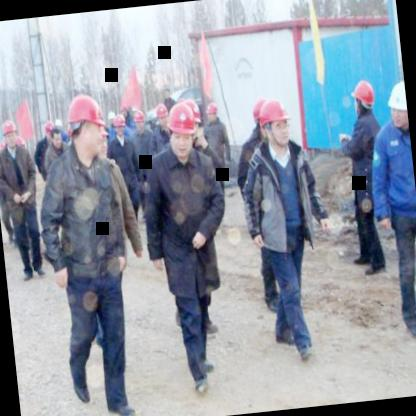helmet: (60, 88, 110, 163), (164, 98, 202, 157), (251, 95, 292, 148), (384, 79, 408, 131), (350, 77, 378, 121), (0, 114, 19, 148), (154, 102, 170, 129), (112, 111, 127, 138), (204, 99, 221, 122), (132, 108, 146, 134)
